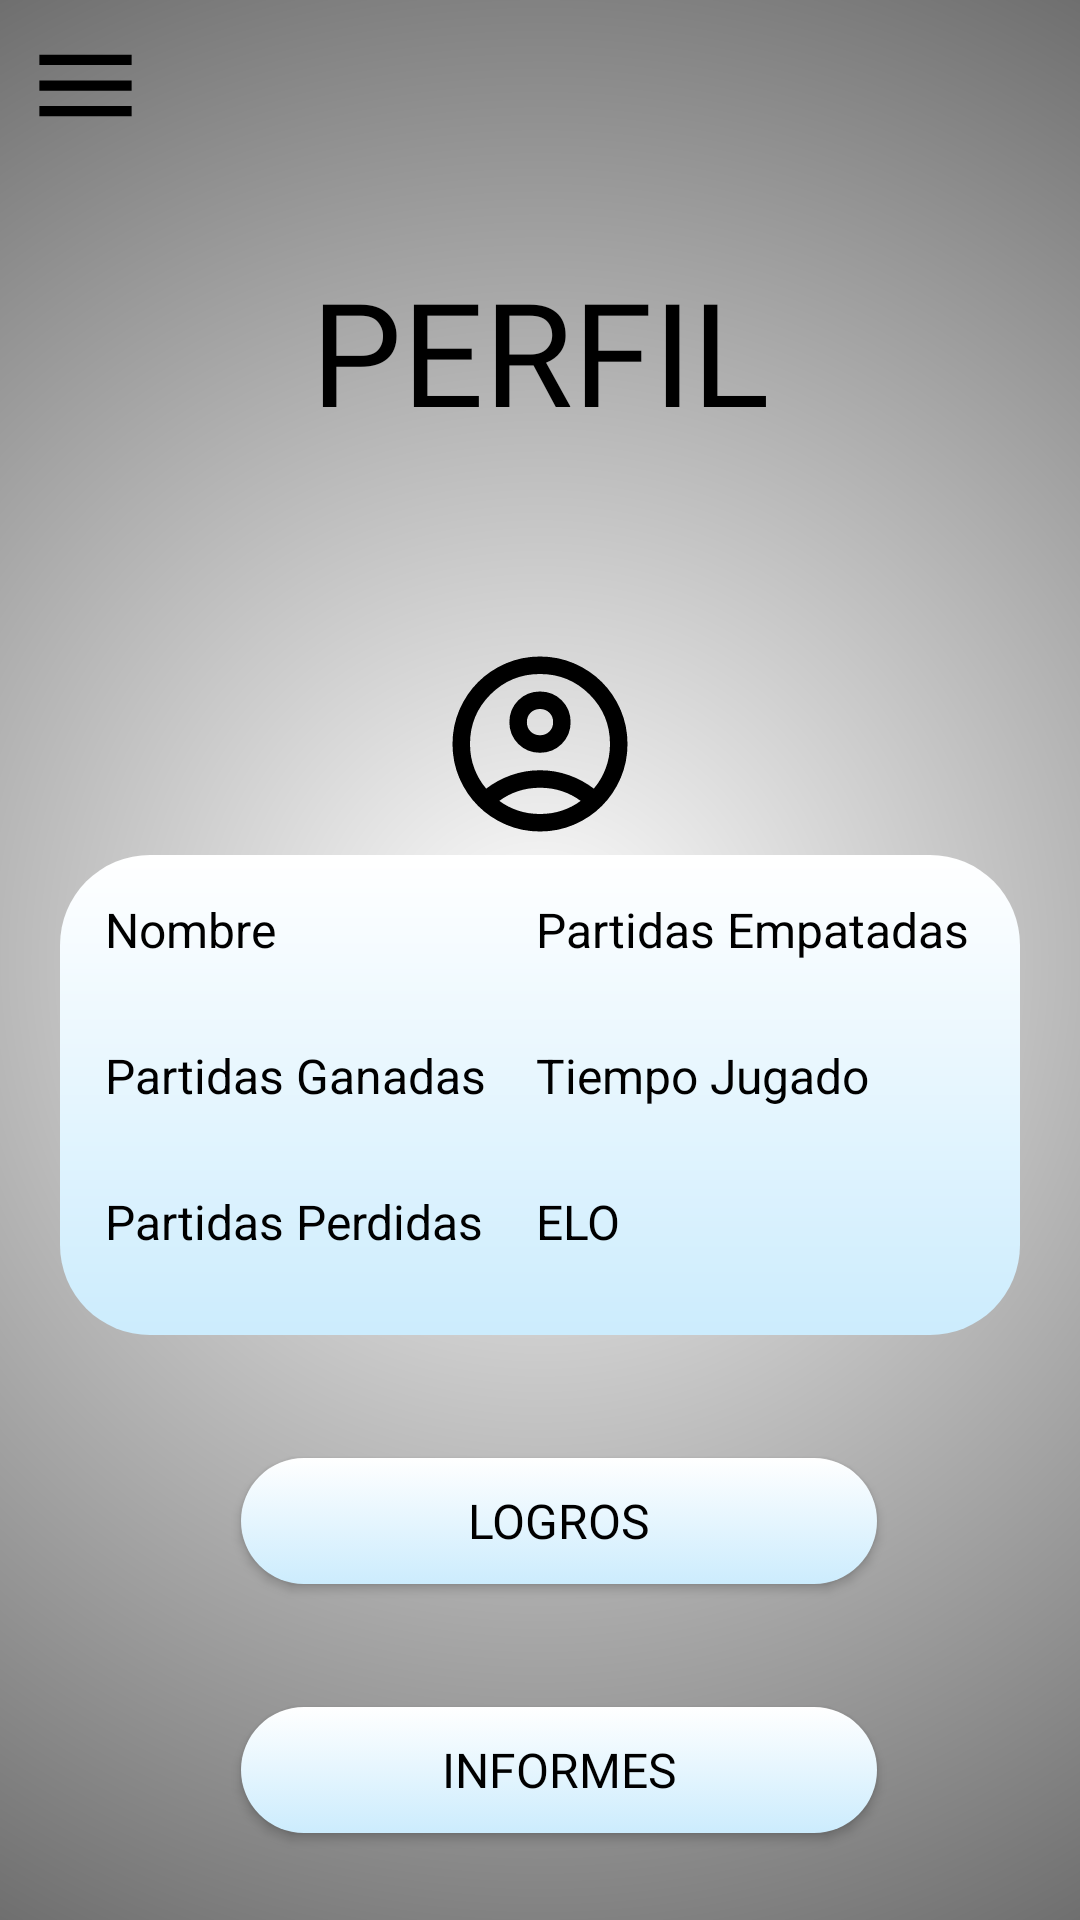

Icon bounding boxes for this 1080 x 1920 phone screenshot, format (x1, y1, x2, y2):
account: (435, 656, 645, 849)
menu: (39, 54, 132, 117)
